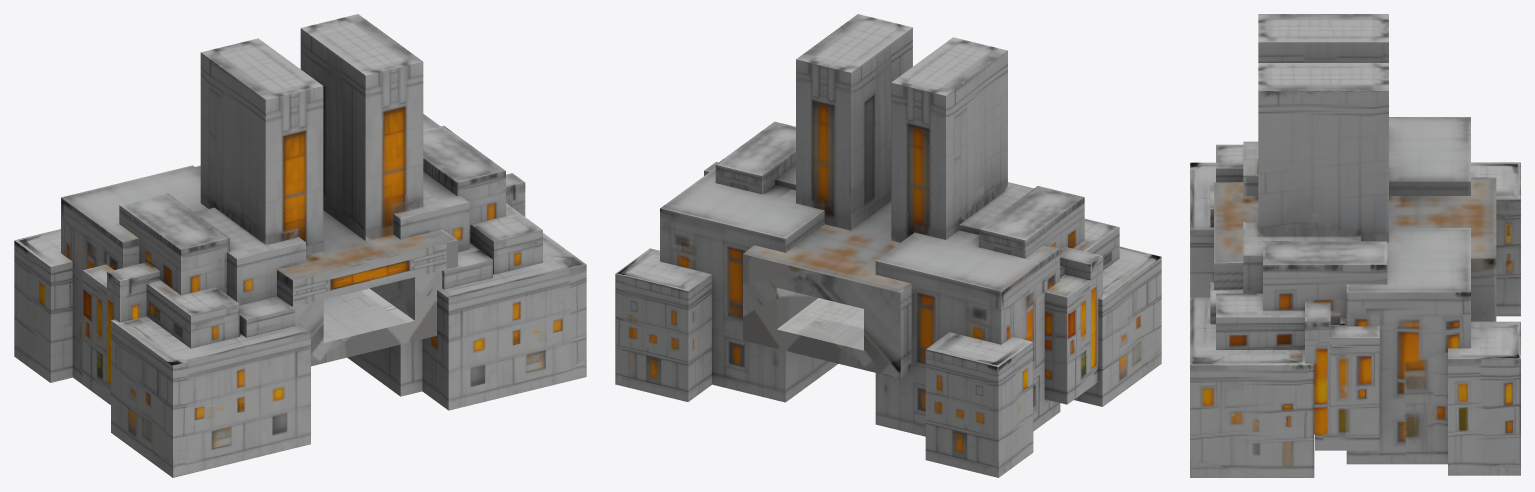
File: bldg_energy_hub_basic_new.glb
The picture shows the model from 3 angles, left to right: view 1: azimuth 30°, elevation 25°; view 2: azimuth 150°, elevation 25°; view 3: azimuth 270°, elevation 25°; orthographic projection. The views are drawn at different scales.
Parts seen in each view (by area): view 1: 13.0.114.0; view 2: 13.0.114.0; view 3: 13.0.114.0.
Boxes of the visible parts, <box> form: 13.0.114.0: <box>14,14,586,477</box>; 13.0.114.0: <box>615,14,1161,477</box>; 13.0.114.0: <box>1190,14,1520,477</box>.
Bounding box in the file's own units: 2 × 1.49 × 1.38.
2 materials, 2 textured.
